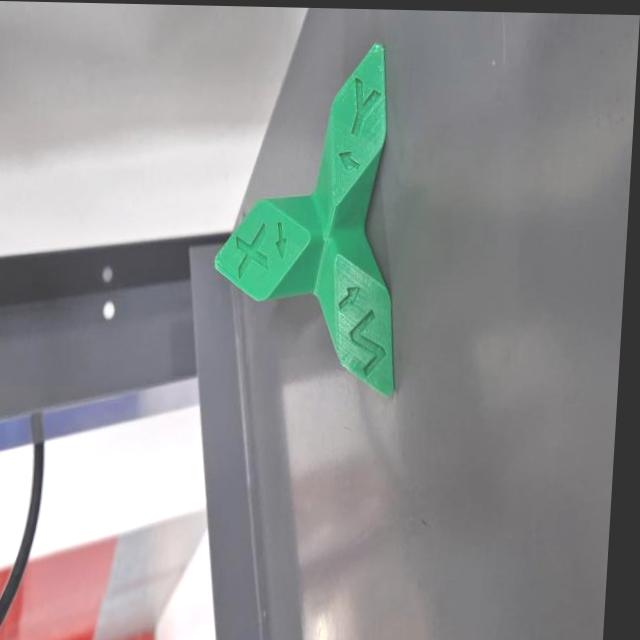eje: (202, 33, 421, 403)
